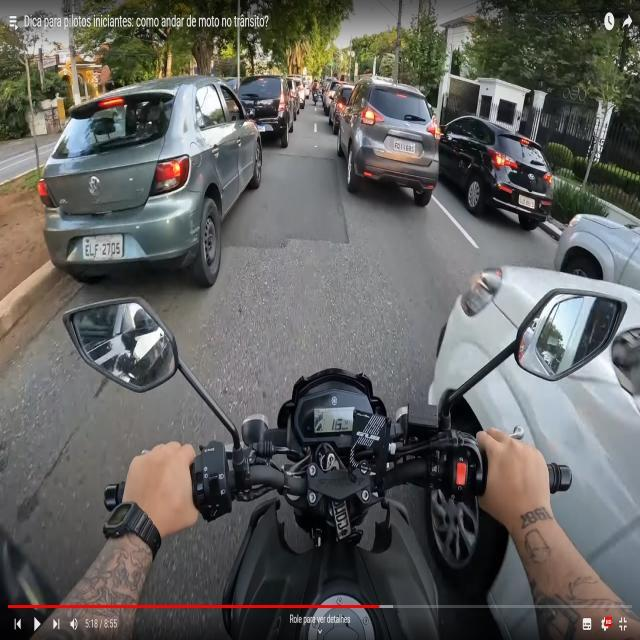Placa_mercosul_carro: (83, 237, 124, 260), (518, 194, 535, 210), (394, 142, 416, 152)
